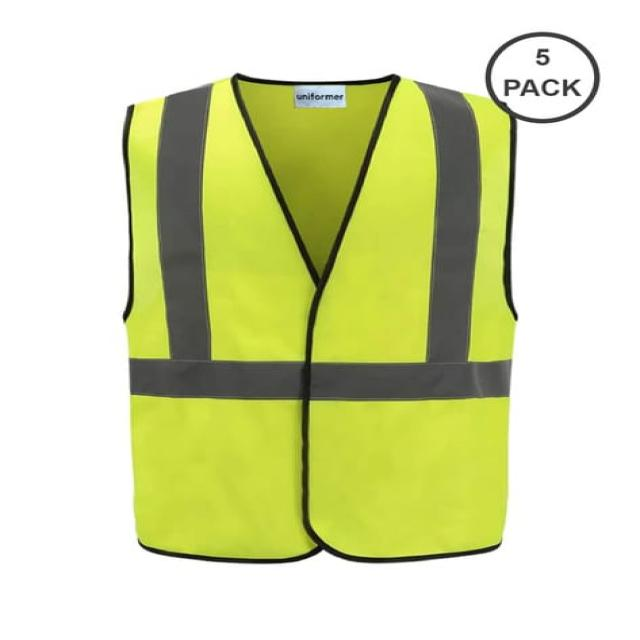safety_helmet: (122, 85, 525, 561)
